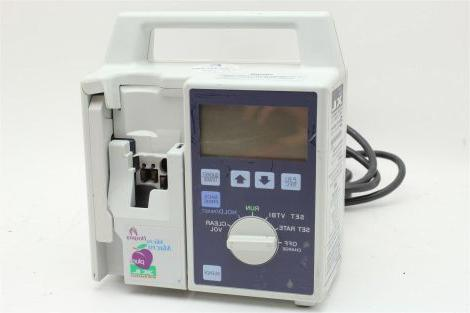plumxl1: (81, 11, 347, 310)
